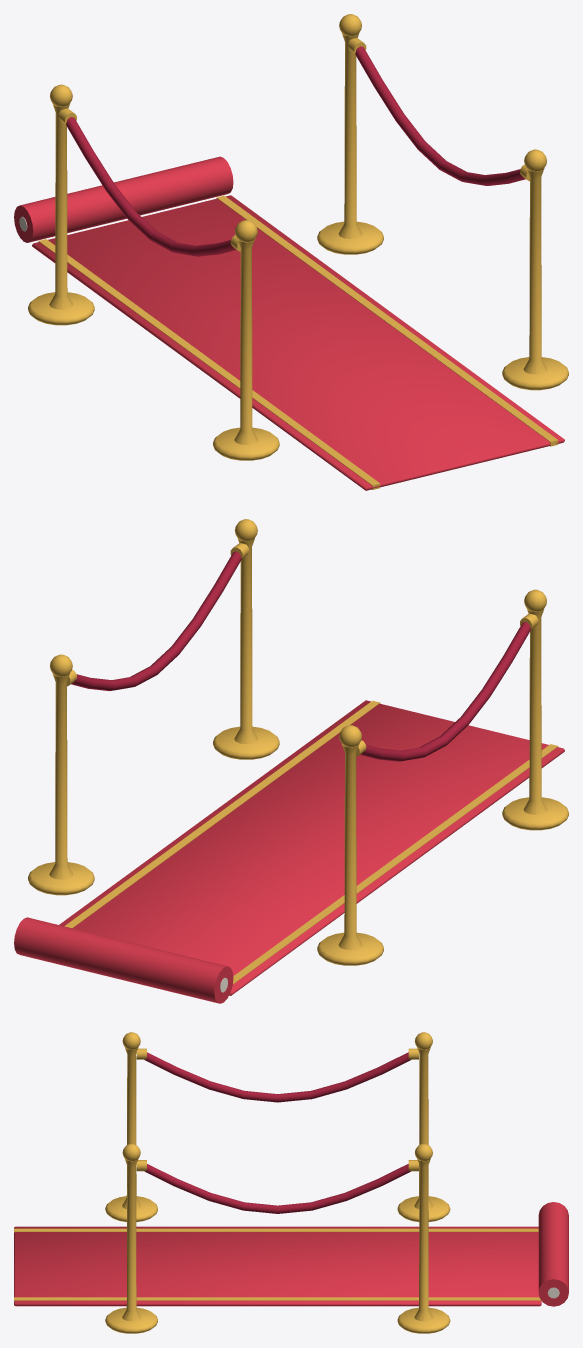
File: prop_red_carpet.glb
3 renders of one model, top to bottom at view 1: azimuth 30°, elevation 25°; view 2: azimuth 150°, elevation 25°; view 3: azimuth 270°, elevation 25°, orthographic. The views are drawn at different scales.
Visible parts, largest first — view 1: RedCarpet; view 2: RedCarpet; view 3: RedCarpet.
Boxes of the visible parts, <box> form: RedCarpet: <box>14,14,568,490</box>; RedCarpet: <box>14,519,568,1003</box>; RedCarpet: <box>14,1032,568,1333</box>.
Bounding box in the file's own units: 1.56 × 0.975 × 2.74.
